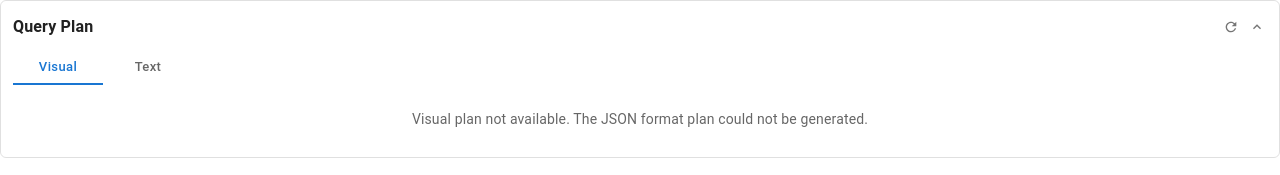
Test case: QueryPlanPanel › shows text plan in monospace when text tab is selected
Click the tab "Text".
click(148, 67)  # box [103, 49, 193, 85]
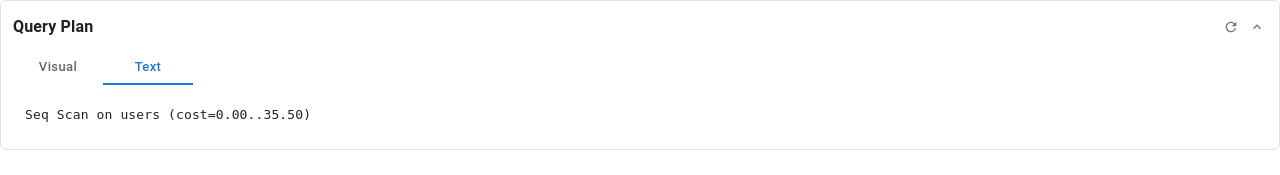
Now the text "Seq Scan on users (cost=0.00..35.50)" is shown, box [13, 93, 1267, 136]
